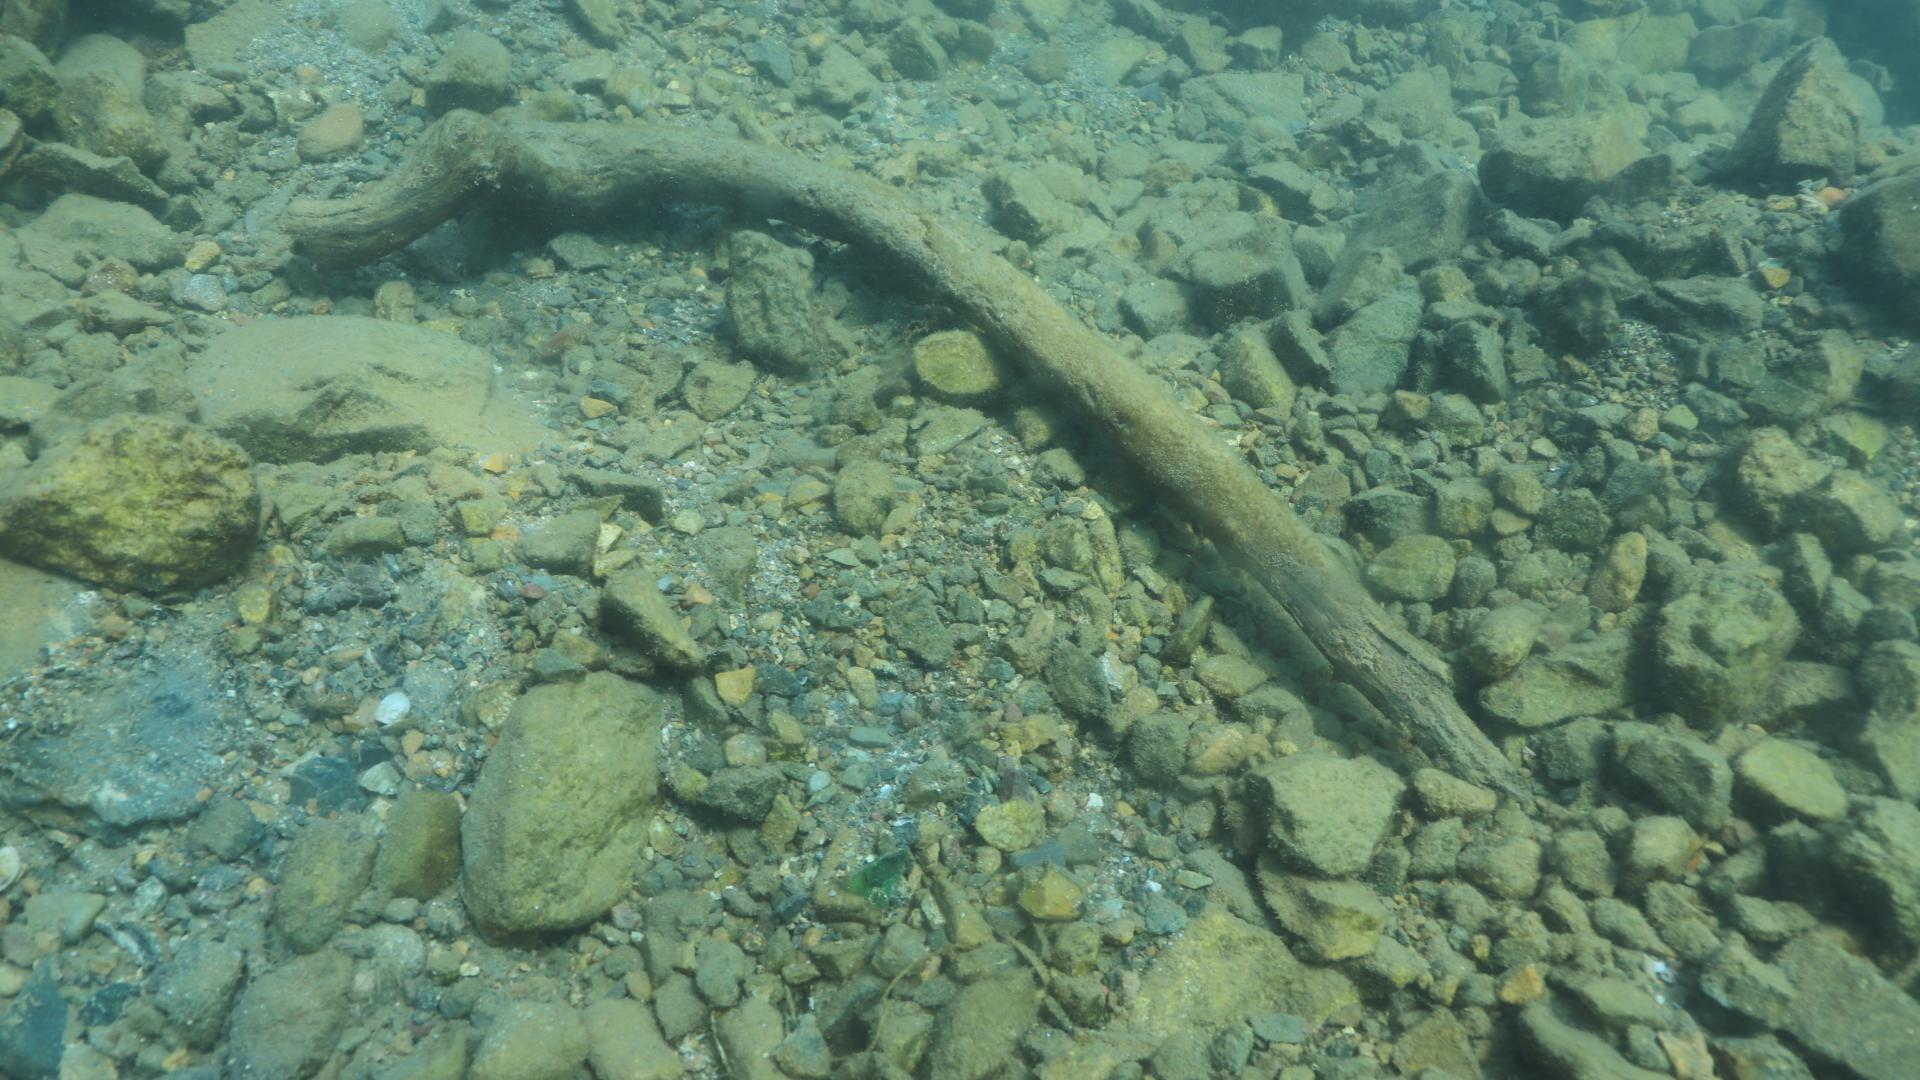wood: (281, 107, 1516, 789)
